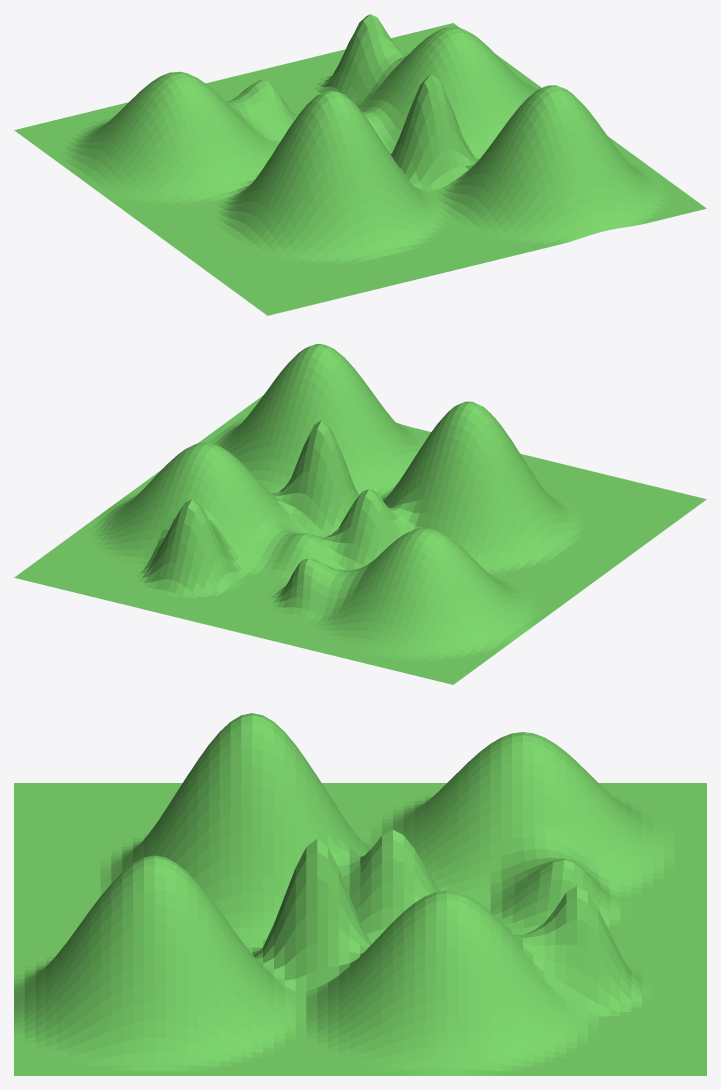
The model's file is sample5.gltf.
3 views of the same model, one above another, from view 1: azimuth 30°, elevation 25°; view 2: azimuth 150°, elevation 25°; view 3: azimuth 270°, elevation 25° (orthographic). The views are drawn at different scales.
Parts seen in each view (by area): view 1: Cube; view 2: Cube; view 3: Cube.
Boxes of the visible parts, x1=… form: Cube: x1=14, y1=14, x2=706, y2=315; Cube: x1=14, y1=344, x2=706, y2=684; Cube: x1=14, y1=713, x2=706, y2=1075.
Size of the model in its own units: 9.94 by 2.67 by 9.94.
